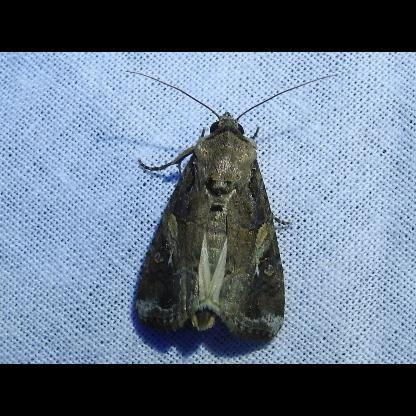Fall Armyworm Moth: (124, 68, 340, 348)
